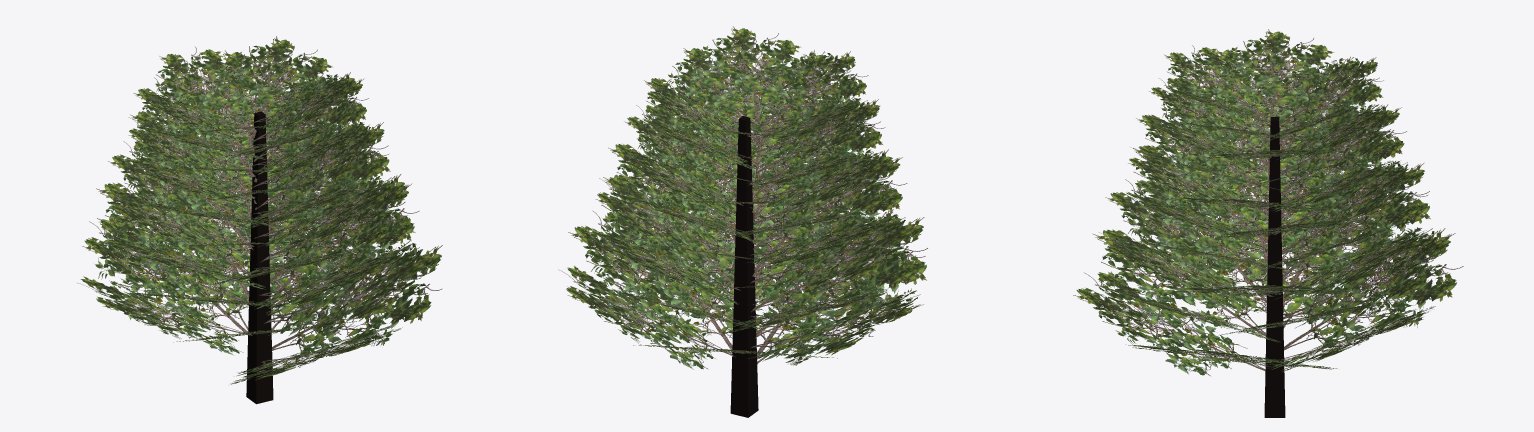
The model's file is tree.obj.
3 renders of one model, left to right at view 1: azimuth 30°, elevation 25°; view 2: azimuth 150°, elevation 25°; view 3: azimuth 270°, elevation 25°, orthographic. The views are drawn at different scales.
Visible parts, largest first — view 1: Tree; view 2: Tree; view 3: Tree.
Part boxes in pixels (<box>): Tree: <box>77,36,442,404</box>; Tree: <box>558,26,927,417</box>; Tree: <box>1073,29,1463,417</box>.
Bounding box in the file's own units: 1.87 × 1.49 × 1.88.
2 materials, 1 textured.
